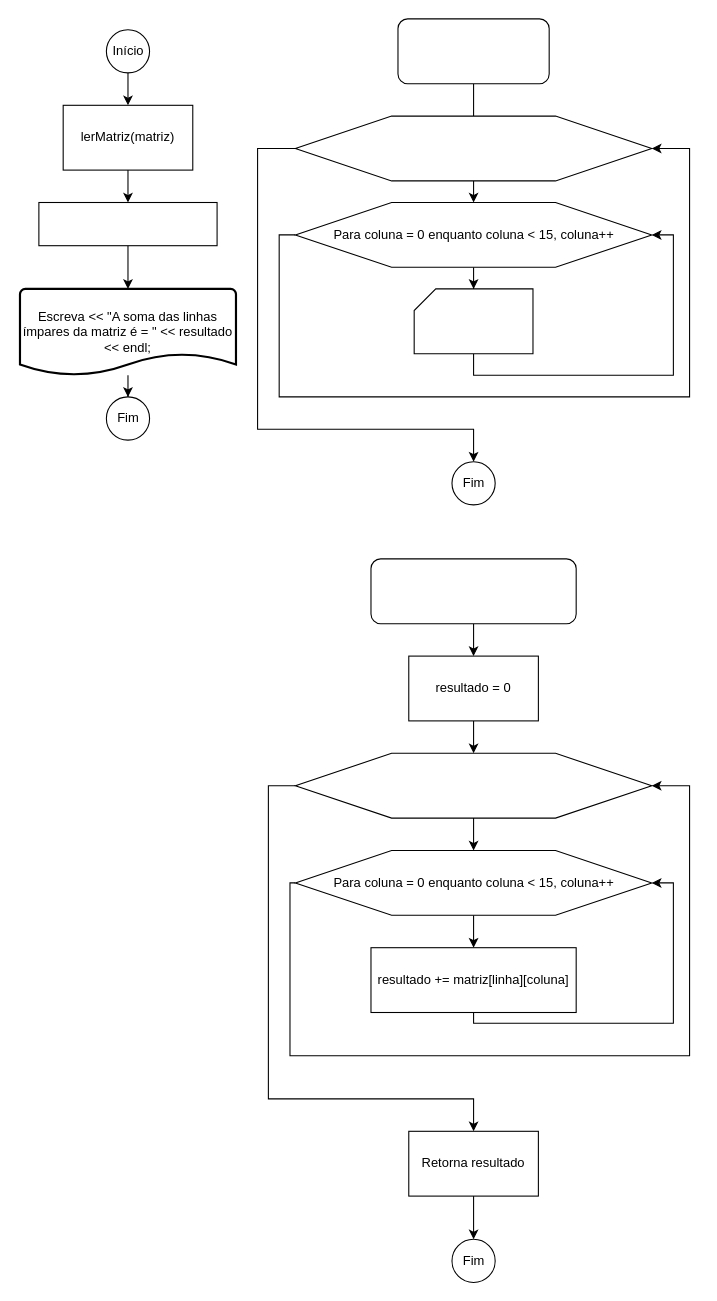
Some shapes in this 717 by 1301 pixel diagram are drawn without their labels. Here are the shapes that lost their labels. From the top down, the centre of each, then its label:
At (x=473, y=51): "lerMatriz Entradas: matriz[20][15] Saídas: não tem".
At (x=473, y=148): "Para linha = 0 enquanto linha < 20, linha++".
At (x=127, y=223): "somaLinhas(matriz, resultado)".
At (x=473, y=321): "matriz[linha][coluna]".
At (x=473, y=591): "somaLinhas Entradas: matriz[20][15] Saídas: resultado".
At (x=473, y=785): "Para linha = 1 enquanto linha <= 20, linha + 2".
